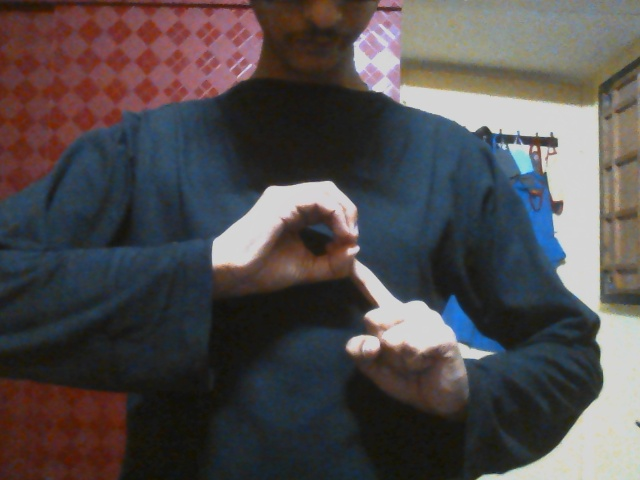Q: (225, 180, 471, 424)
